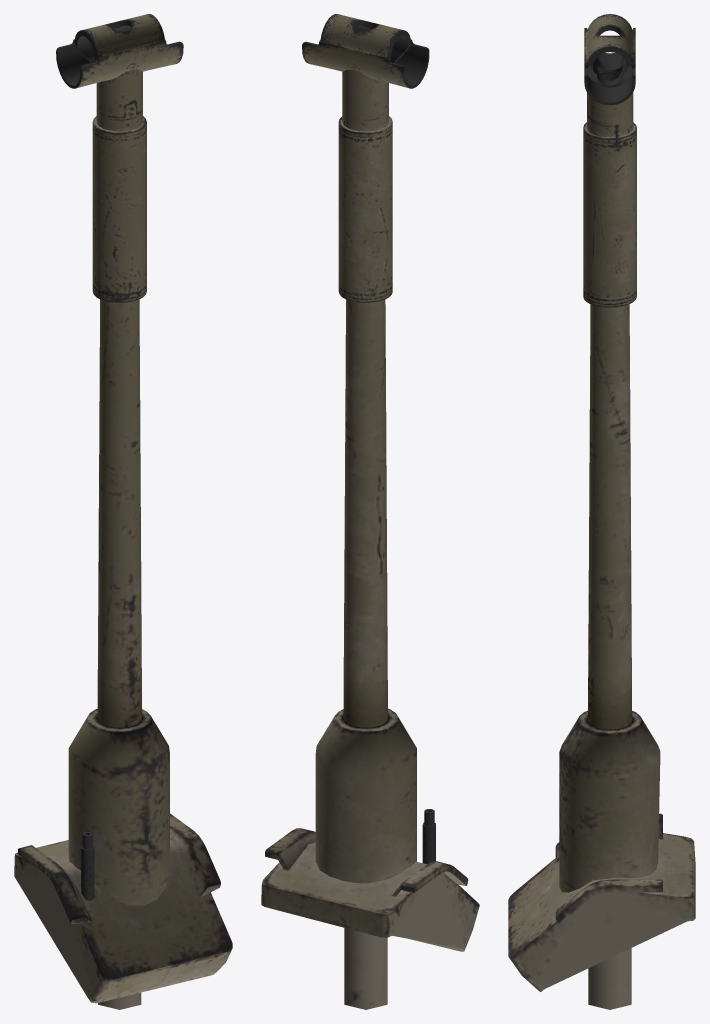
The model's file is Gun_02.glb.
The picture shows the model from 3 angles, left to right: view 1: azimuth 30°, elevation 25°; view 2: azimuth 150°, elevation 25°; view 3: azimuth 270°, elevation 25°; orthographic projection.
Parts seen in each view (by area): view 1: set_0_group_0; view 2: set_0_group_0; view 3: set_0_group_0.
Boxes of the visible parts, bbox=[...] form: set_0_group_0: bbox=[14, 14, 232, 1009]; set_0_group_0: bbox=[261, 14, 479, 1009]; set_0_group_0: bbox=[508, 14, 695, 1009].
Bounding box in the file's own units: 0.6605 × 4.13 × 0.7228.
Materials: 1 (1 with a texture image).
